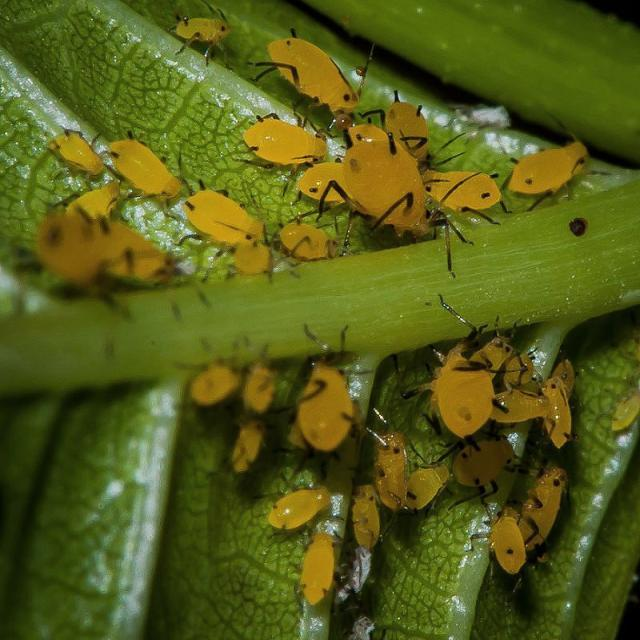aphid: (326, 134, 470, 262), (34, 204, 190, 312), (486, 120, 600, 218), (266, 27, 384, 119), (412, 330, 510, 438), (226, 98, 344, 178), (292, 359, 364, 462), (96, 118, 178, 204), (179, 185, 269, 257), (301, 536, 356, 612), (185, 360, 245, 412), (174, 0, 231, 52), (372, 432, 408, 509), (538, 378, 574, 450), (490, 512, 532, 572), (230, 428, 272, 476), (244, 364, 282, 414)
